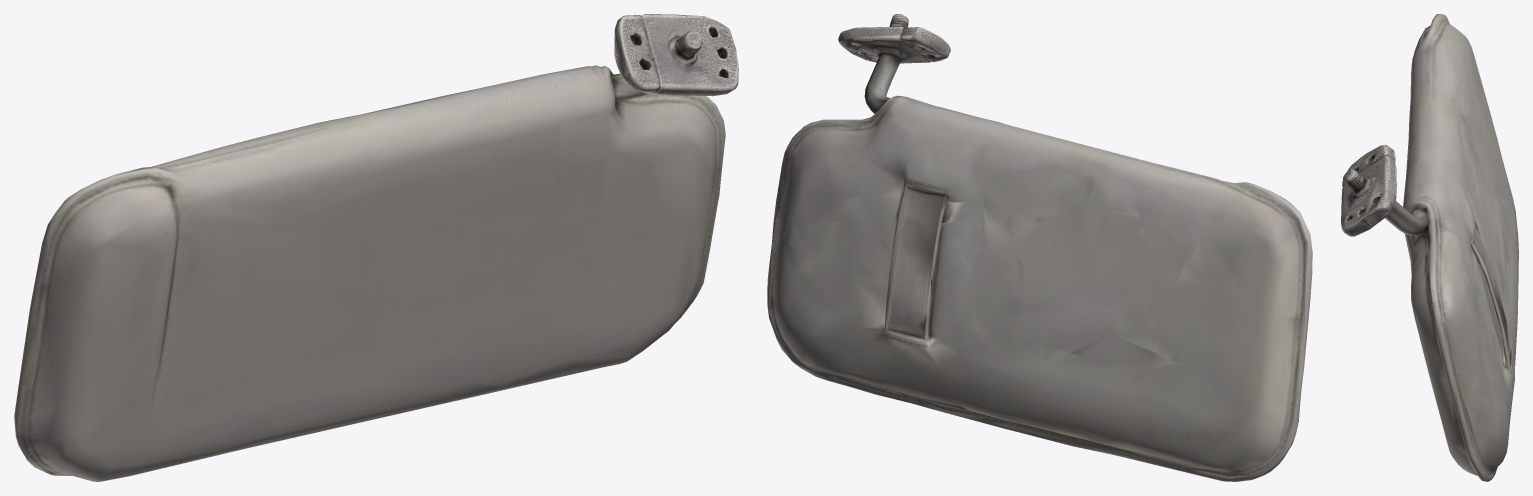
The model's file is aletta.glb.
The picture shows the model from 3 angles, left to right: view 1: azimuth 30°, elevation 25°; view 2: azimuth 150°, elevation 25°; view 3: azimuth 270°, elevation 25°; orthographic projection. The views are drawn at different scales.
Parts seen in each view (by area): view 1: tripo_node_e919051b-5756-44e4-9cab-8da254cb155a; view 2: tripo_node_e919051b-5756-44e4-9cab-8da254cb155a; view 3: tripo_node_e919051b-5756-44e4-9cab-8da254cb155a.
Boxes of the visible parts, x1,y1,x2,y2 form: tripo_node_e919051b-5756-44e4-9cab-8da254cb155a: (14, 14, 738, 481); tripo_node_e919051b-5756-44e4-9cab-8da254cb155a: (767, 14, 1312, 481); tripo_node_e919051b-5756-44e4-9cab-8da254cb155a: (1341, 14, 1518, 481).
Bounding box in the file's own units: 0.9993 × 0.5699 × 0.2948.
Materials: 1 (1 with a texture image).
